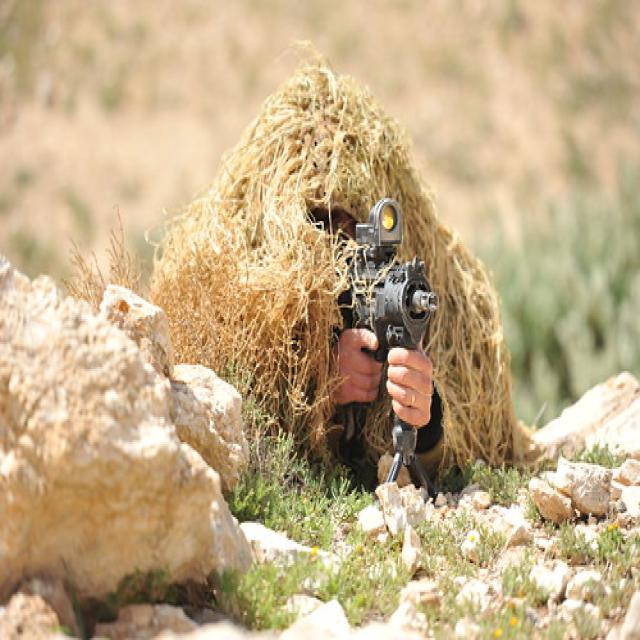Camouflage: (151, 58, 539, 487)
